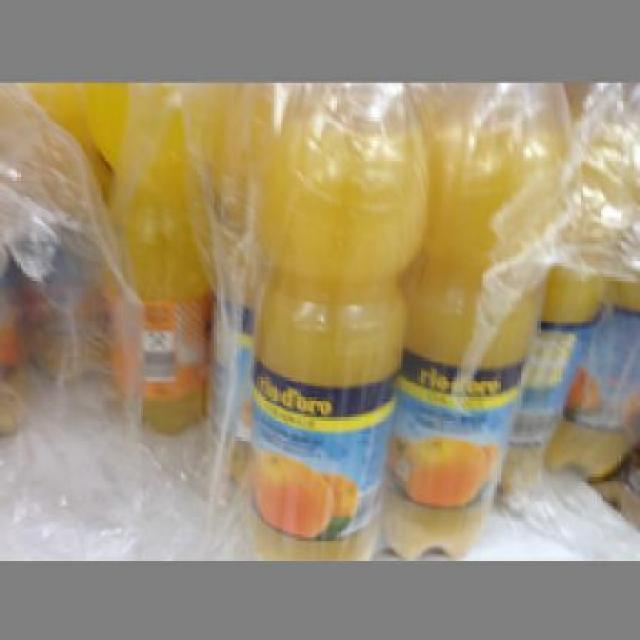Juice: (242, 79, 428, 555), (86, 82, 223, 438)
